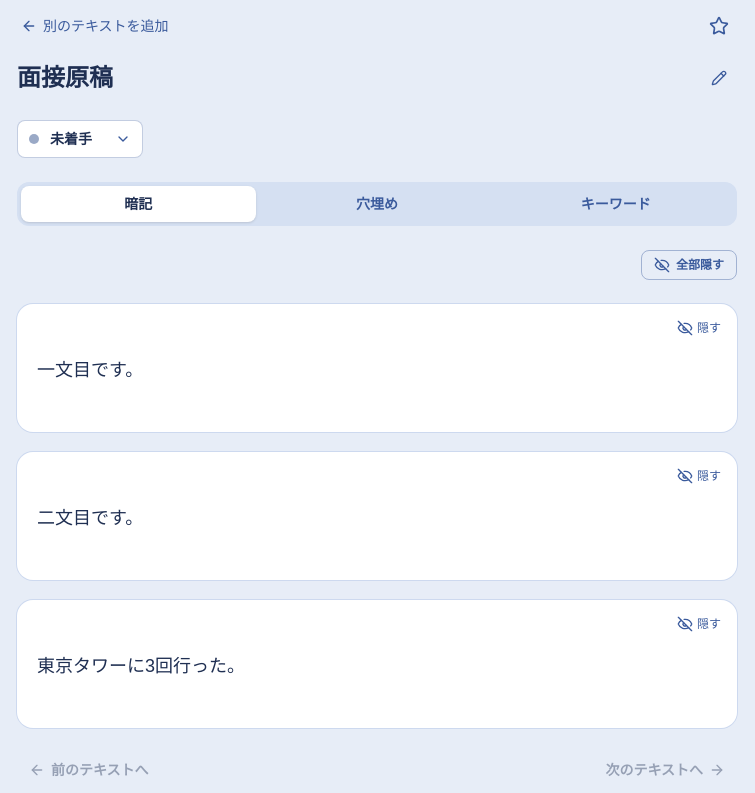
PracticeScreen › ブロックごとに個別に隠す/表示を切り替えられる
The width and height of the screenshot is (755, 793).
What coordinates should you click on to do the following:
click the button with aria-label "このブロックを隠す"
I would click on:
 (699, 328)
Its box is [677,320,721,336].
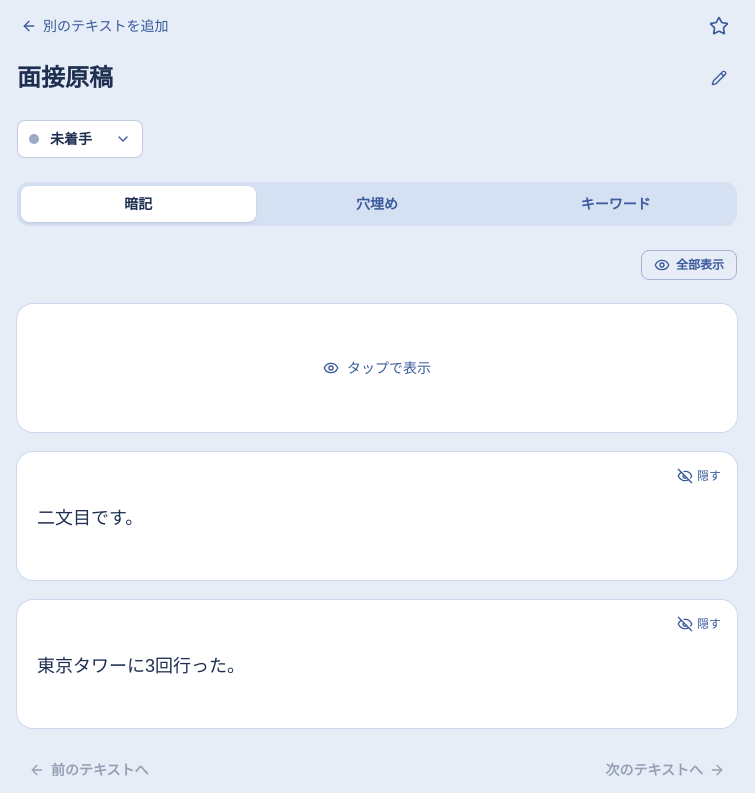
Expected: the text "二文目です。" is shown, [37,508,143,528]
Expected: the text "一文目です。" is gone
